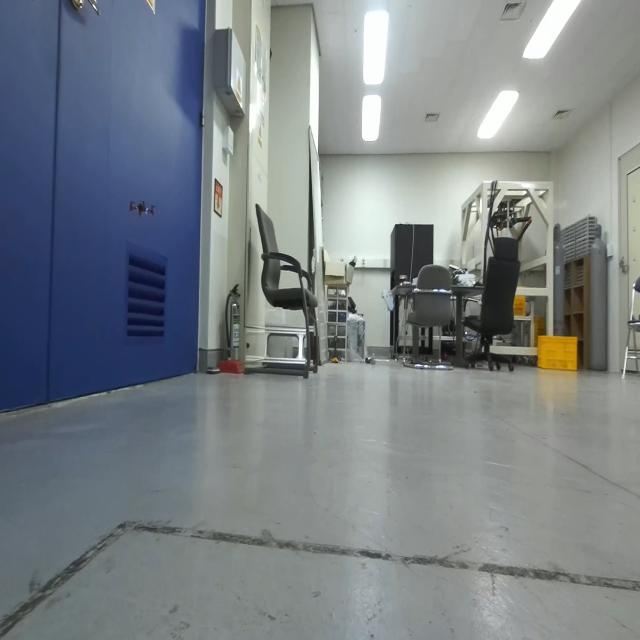crazyflie: (123, 188, 159, 226)
